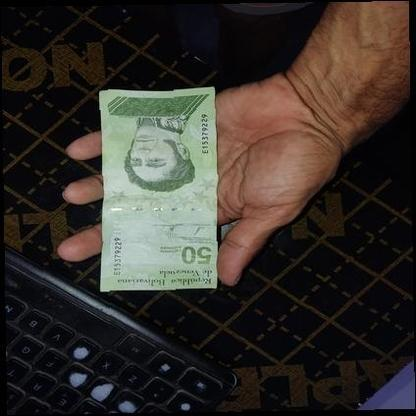vef_front: (99, 87, 218, 292)
